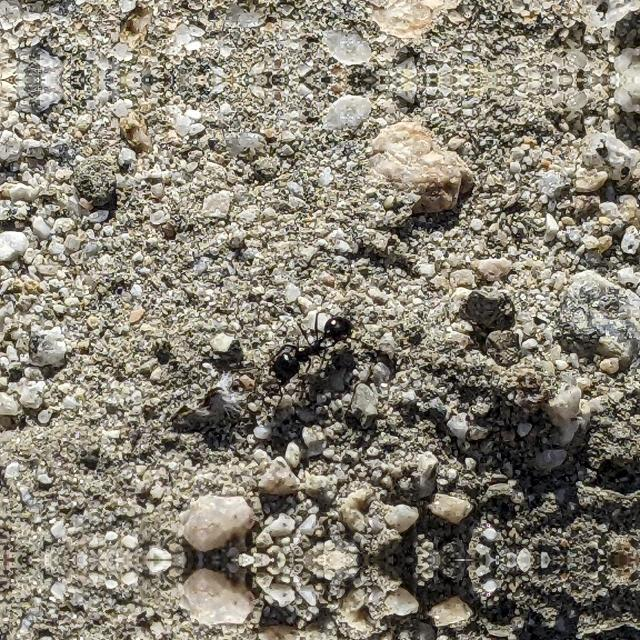Messor: (260, 305, 354, 397)
